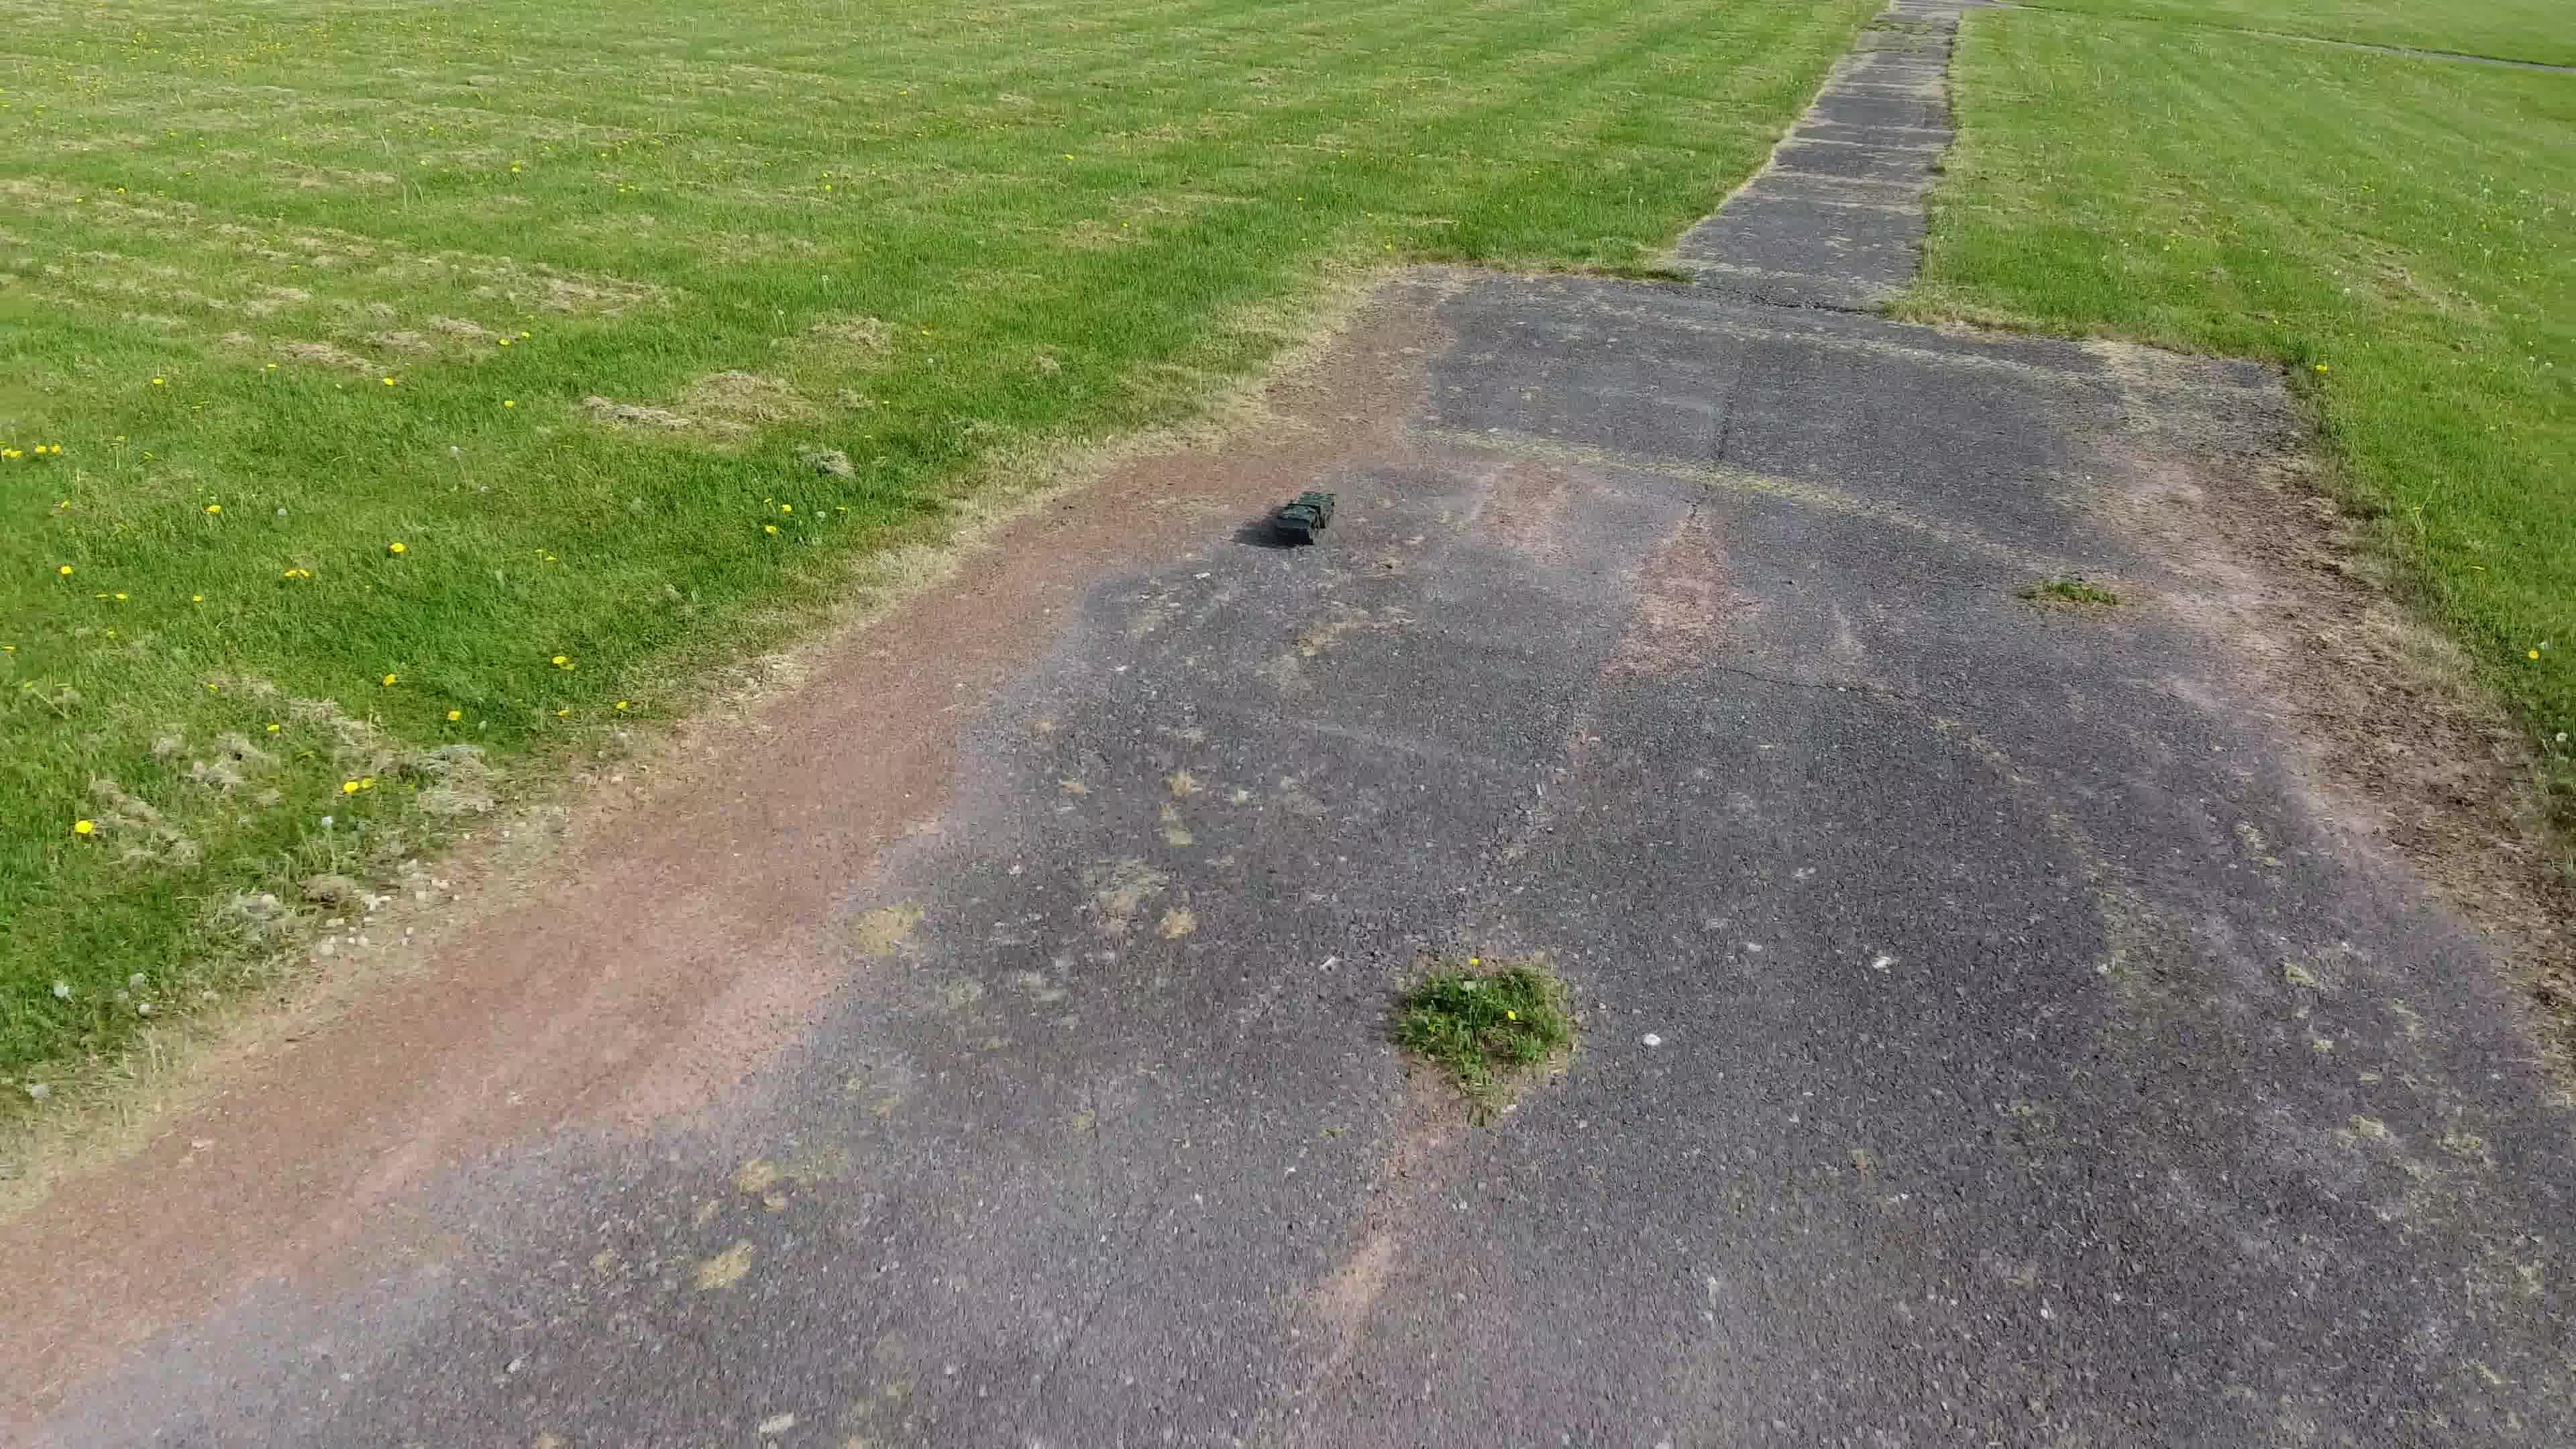transporter9_camo: (1269, 488, 1338, 547)
